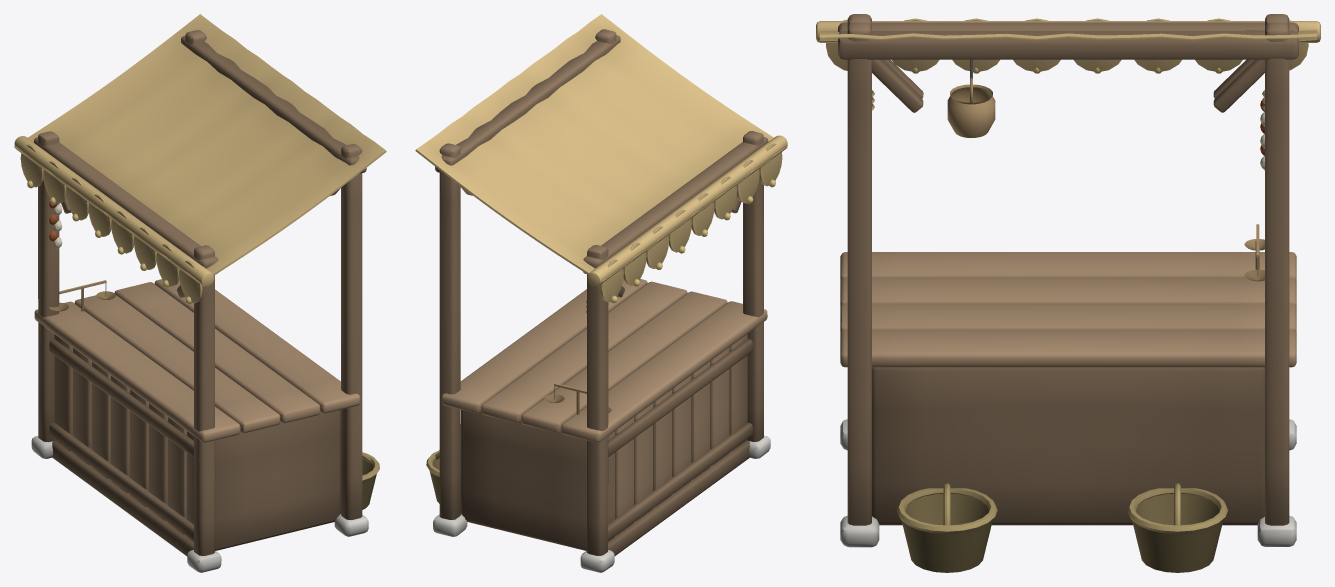
The model's file is obj_kit_stall.glb.
3 views of the same model, side by side, from view 1: azimuth 30°, elevation 25°; view 2: azimuth 150°, elevation 25°; view 3: azimuth 270°, elevation 25° (orthographic). The views are drawn at different scales.
Visible parts, largest first — view 1: awning, Cube.004, Cube.024, Cube, Cube.002, Cube.001, Cube.003, Cube.017, Cube.020, Cylinder, Cube.029, Cube.022 (+21 smaller); view 2: awning, Cube.004, Cube.027, Cube, Cube.002, Cube.001, Cube.020, Cube.003, Cube.017, Cylinder, Cube.029, Cube.022 (+21 smaller); view 3: Cube.004, Cube.003, Cube.027, Cube.024, Cube.029, Cube.002, Cube.001, Cube, basket.001, basket, Cube.022, awning (+8 smaller).
Part boxes in pixels (left/top/right/bottom): awning: left=14, top=14, right=386, bottom=284; Cube.004: left=215, top=410, right=340, bottom=550; Cube.024: left=341, top=143, right=362, bottom=519; Cube: left=34, top=301, right=240, bottom=442; Cube.002: left=114, top=282, right=320, bottom=423; Cube.001: left=74, top=295, right=280, bottom=432; Cube.003: left=154, top=279, right=360, bottom=413; Cube.017: left=194, top=245, right=214, bottom=555; Cube.020: left=38, top=131, right=59, bottom=441; Cylinder: left=14, top=136, right=214, bottom=286; Cube.029: left=181, top=36, right=366, bottom=173; Cube.022: left=34, top=137, right=218, bottom=268; awning: left=415, top=14, right=787, bottom=283; Cube.004: left=461, top=409, right=586, bottom=550; Cube.027: left=439, top=143, right=460, bottom=519; Cube: left=561, top=301, right=767, bottom=442; Cube.002: left=481, top=281, right=687, bottom=423; Cube.001: left=521, top=291, right=727, bottom=432; Cube.020: left=587, top=245, right=608, bottom=555; Cube.003: left=441, top=278, right=647, bottom=413; Cube.017: left=743, top=131, right=763, bottom=441; Cylinder: left=587, top=135, right=787, bottom=286; Cube.029: left=435, top=35, right=620, bottom=173; Cube.022: left=583, top=137, right=768, bottom=273; Cube.004: left=872, top=367, right=1264, bottom=525; Cube.003: left=840, top=330, right=1296, bottom=367; Cube.027: left=1265, top=22, right=1289, bottom=525; Cube.024: left=847, top=22, right=871, bottom=525; Cube.029: left=838, top=30, right=1298, bottom=59; Cube.002: left=840, top=304, right=1296, bottom=334; Cube.001: left=840, top=278, right=1296, bottom=307; Cube: left=840, top=252, right=1296, bottom=281; basket.001: left=1132, top=493, right=1223, bottom=572; basket: left=901, top=493, right=992, bottom=572; Cube.022: left=838, top=22, right=1298, bottom=32; awning: left=819, top=30, right=1317, bottom=41.
Size of the model in its own units: 1.43 by 2.37 by 2.08.
